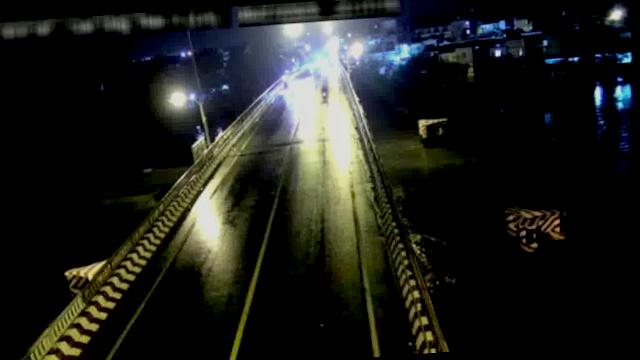Bike: (317, 77, 328, 98)
